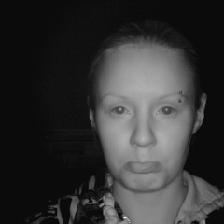sad: (81, 25, 214, 194)
